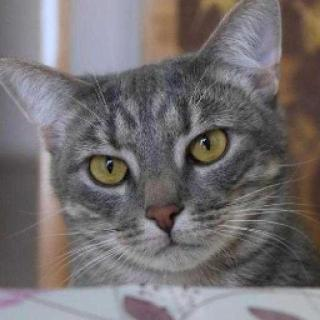cat: (8, 42, 307, 275)
nose: (142, 182, 188, 241)
